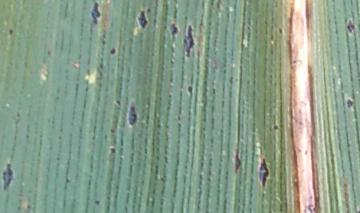tarspot: (256, 156, 270, 189), (1, 161, 15, 192), (183, 23, 195, 59), (126, 103, 139, 127), (89, 2, 101, 25), (136, 10, 148, 28), (232, 153, 242, 173), (345, 18, 356, 36), (167, 21, 180, 36), (345, 98, 354, 110), (114, 99, 122, 107), (186, 85, 193, 94), (109, 47, 116, 55), (108, 146, 116, 153), (109, 127, 116, 135), (272, 124, 280, 131), (277, 26, 283, 35), (7, 28, 13, 36), (64, 177, 71, 183), (94, 199, 100, 205), (26, 204, 32, 210), (16, 205, 22, 211), (46, 49, 51, 56)
